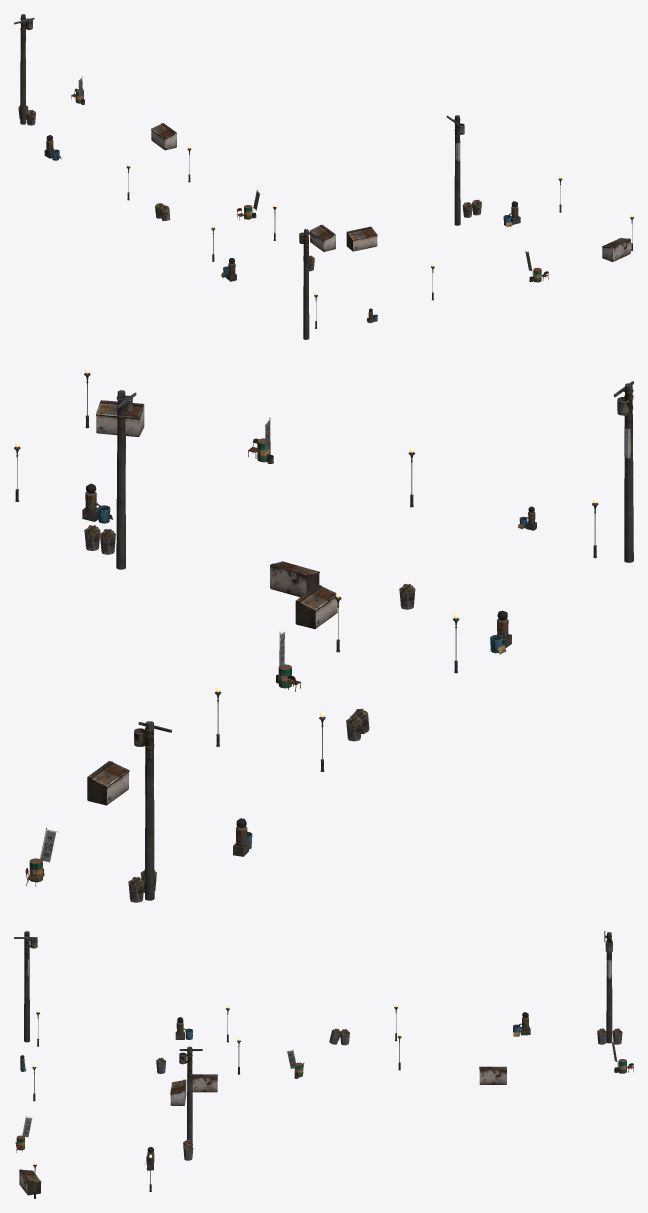
The model's file is decore 01 new.fbx.
3 views of the same model, one above another, from view 1: azimuth 30°, elevation 25°; view 2: azimuth 150°, elevation 25°; view 3: azimuth 270°, elevation 25° (orthographic). The views are drawn at different scales.
Visible parts, largest first — view 1: decore_01; view 2: decore_01; view 3: decore_01.
Part boxes in pixels (<box>): decore_01: <box>14,14,633,339</box>; decore_01: <box>14,368,633,902</box>; decore_01: <box>14,931,633,1198</box>.
Bounding box in the file's own units: 2809 × 875 × 4361.
